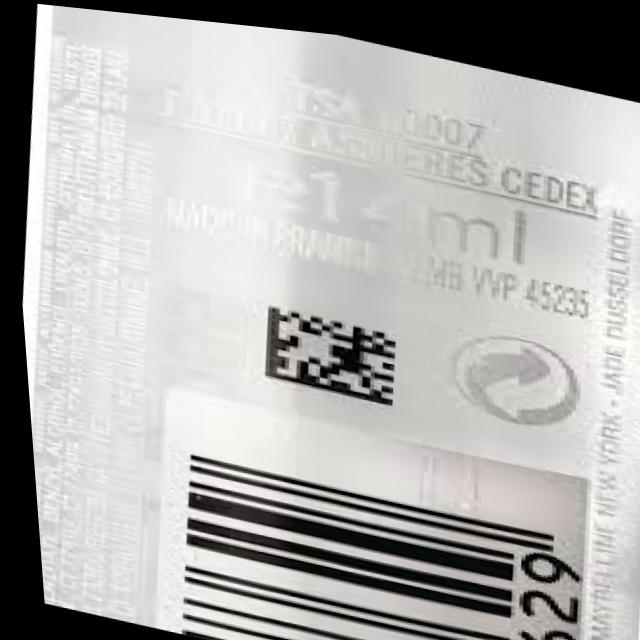datamatrix: (243, 291, 408, 408)
